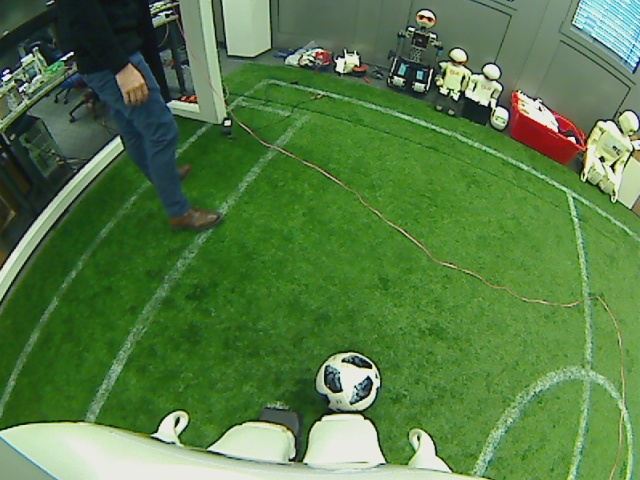ball: (312, 350, 382, 414)
